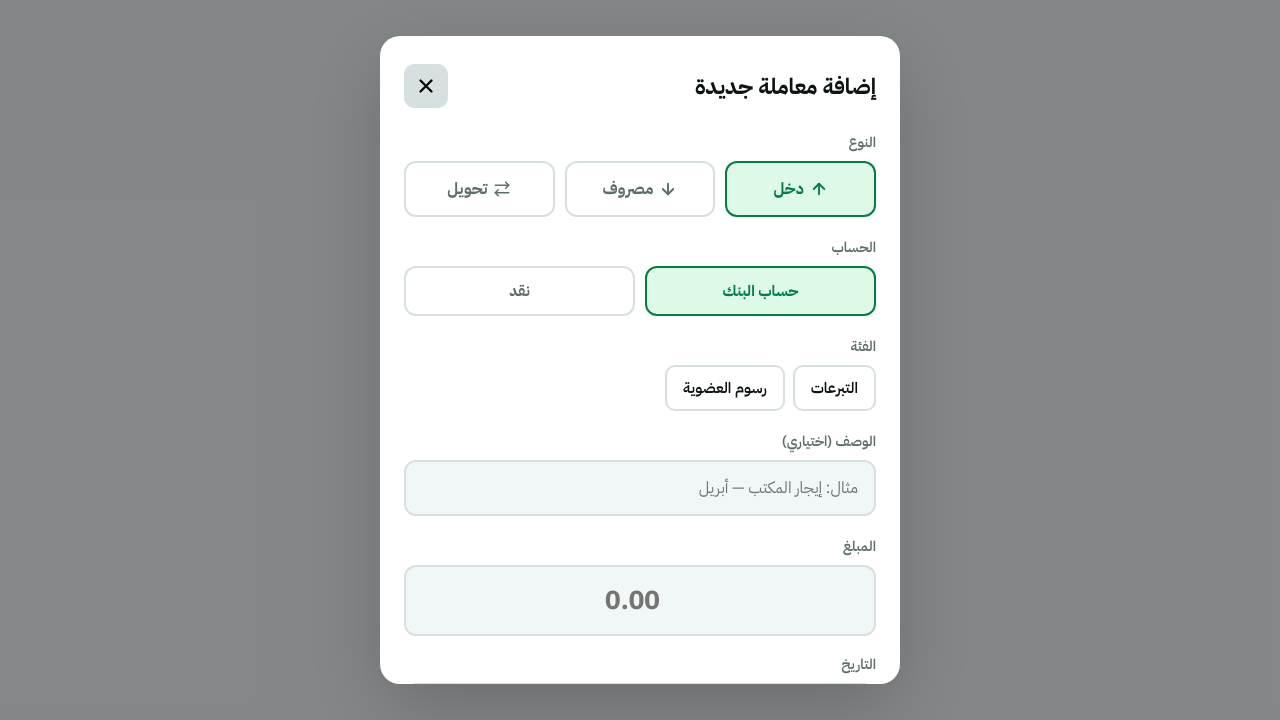
Test: AddTxModal (Arabic default) › shows amount-required error when category is set but amount is missing
Click the button "التبرعات". click: (834, 388)
box: [793,365,876,411]
(page scrolled)
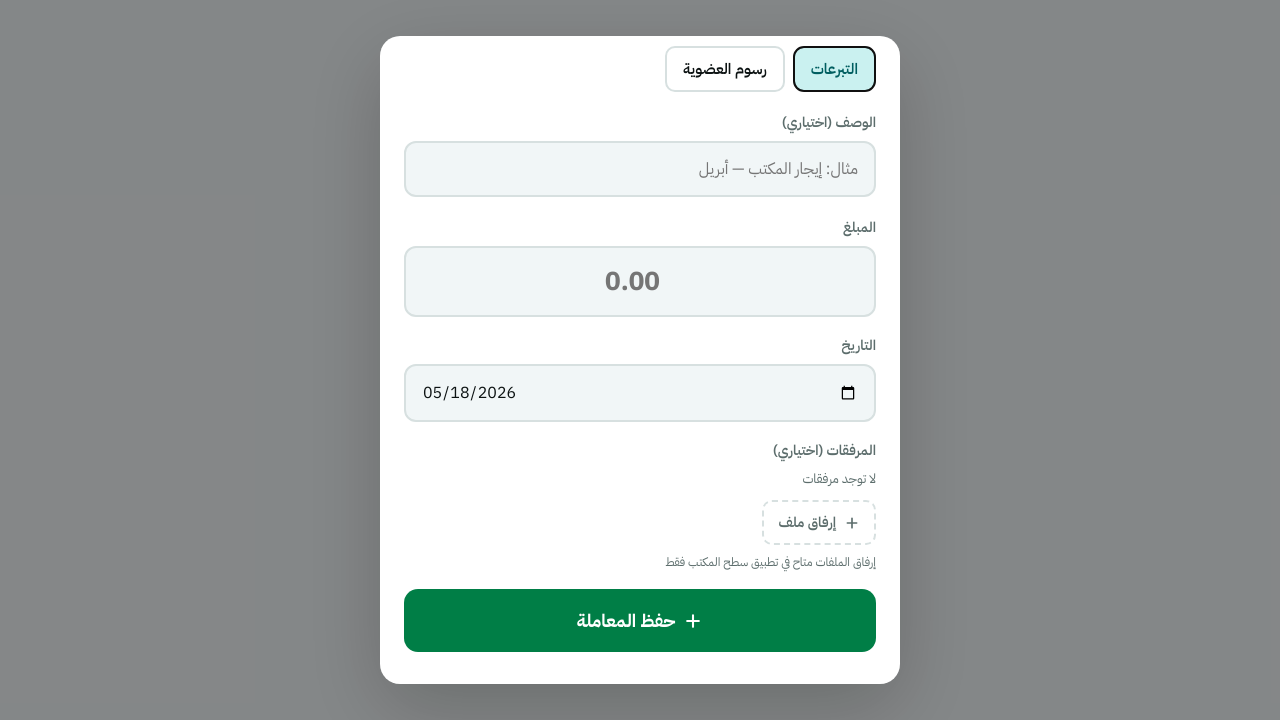
Click the button "حفظ المعاملة". click: (640, 620)
box: [404,589,876,652]
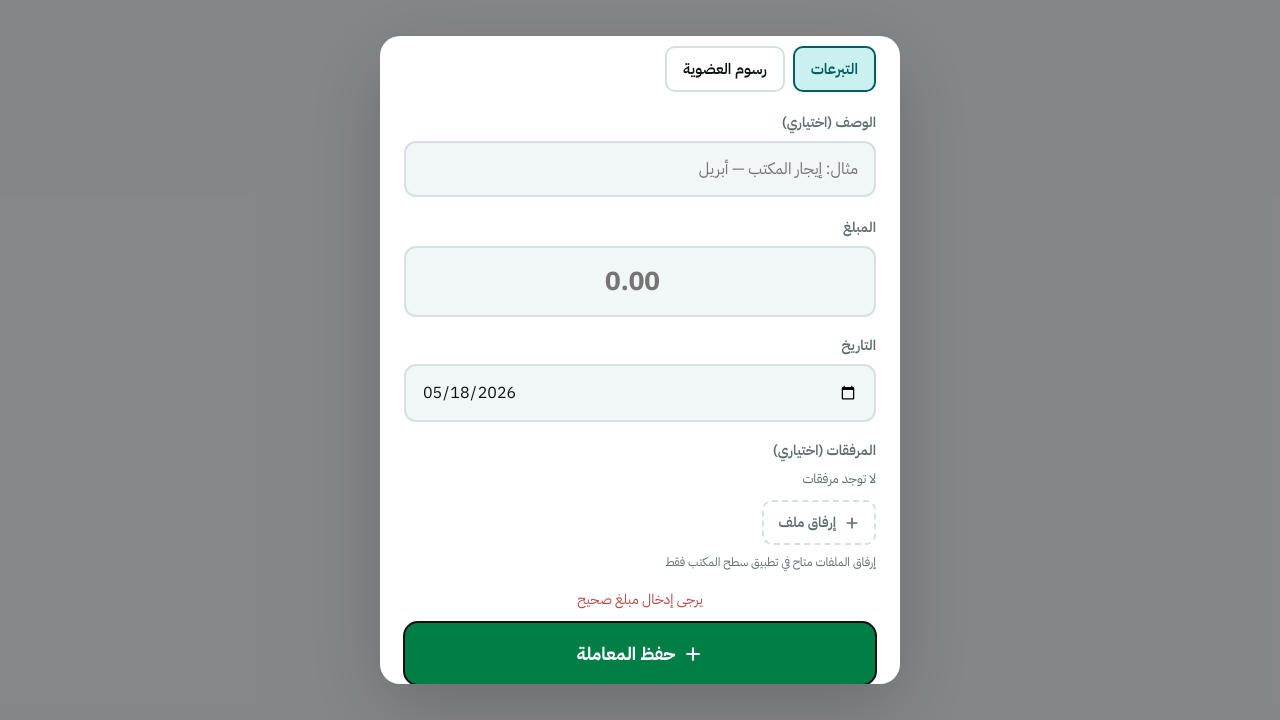
Check: the message reads "يرجى إدخال مبلغ صحيح", box [577,589,703,610]
